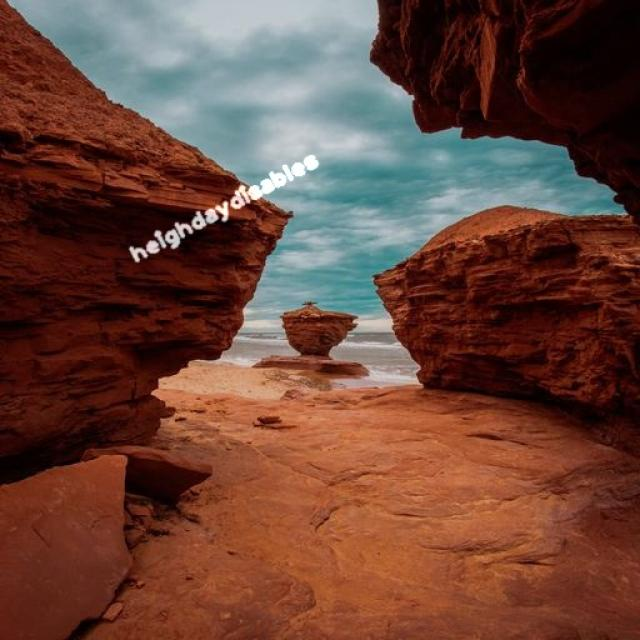watermark: (130, 147, 320, 266)
